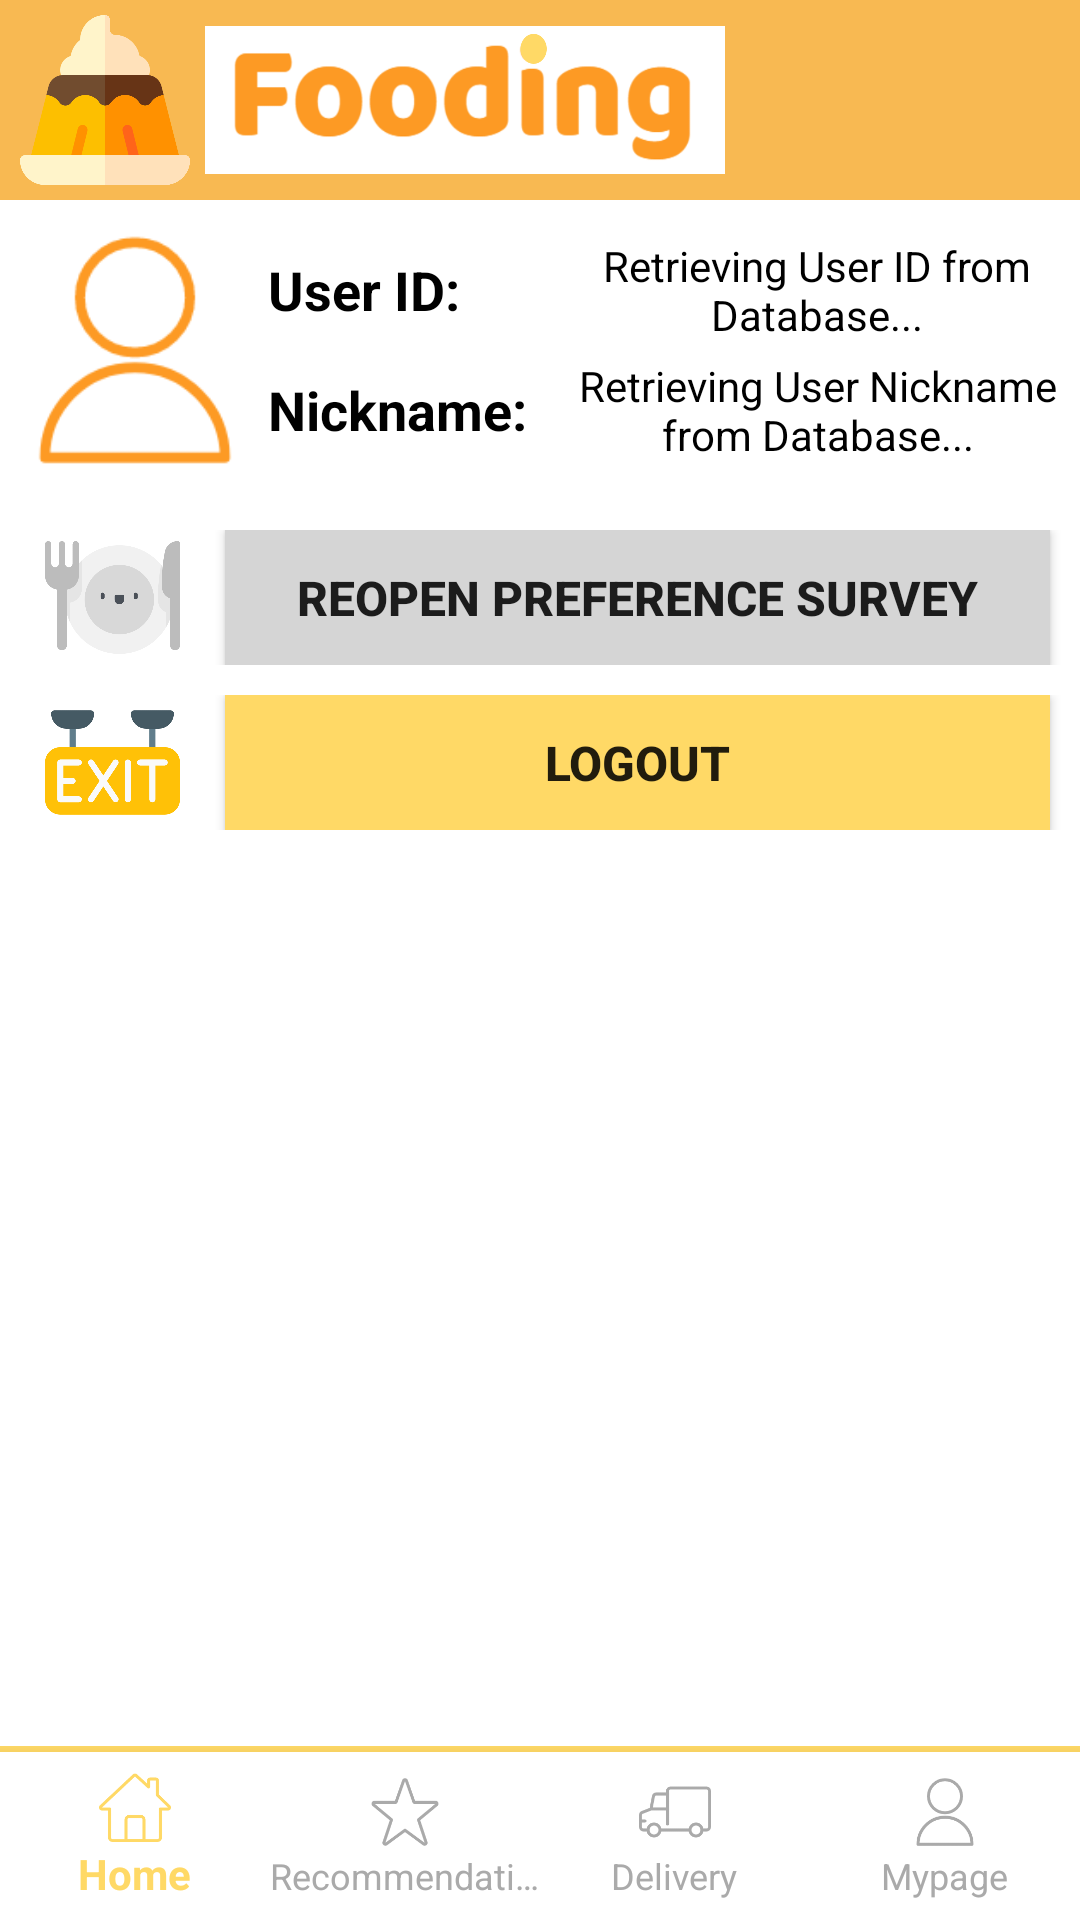

Where to tap for icons on this 1080x1920 app screen, as [x,y]:
app: [105,100]
plate: [112,595]
